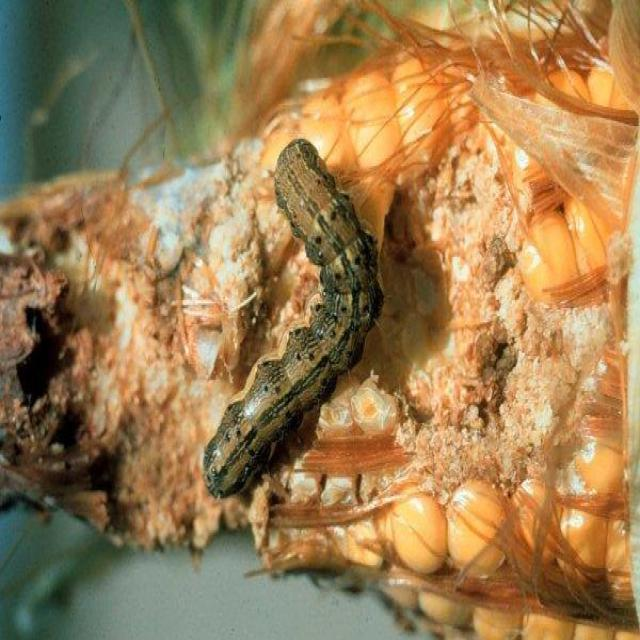Corn-earworm: (196, 155, 376, 521)
